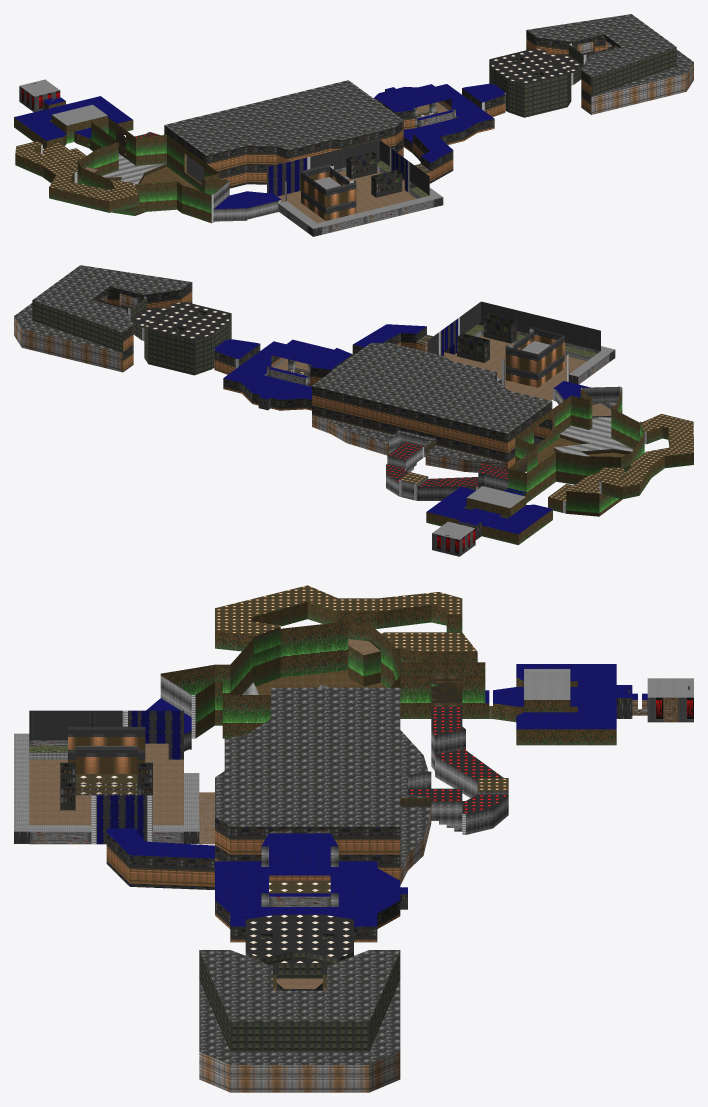
Rendered from Doom_E1M1.fbx.
The picture shows the model from 3 angles, top to bottom: view 1: azimuth 30°, elevation 25°; view 2: azimuth 150°, elevation 25°; view 3: azimuth 270°, elevation 25°; orthographic projection. The views are drawn at different scales.
Visible parts, largest first — view 1: E1M1; view 2: E1M1; view 3: E1M1.
Part boxes in pixels (<box>): E1M1: <box>14,14,693,236</box>; E1M1: <box>14,265,693,556</box>; E1M1: <box>14,585,693,1092</box>.
Bounding box in the file's own units: 4576 × 400 × 2816.
55 materials, 55 textured.
